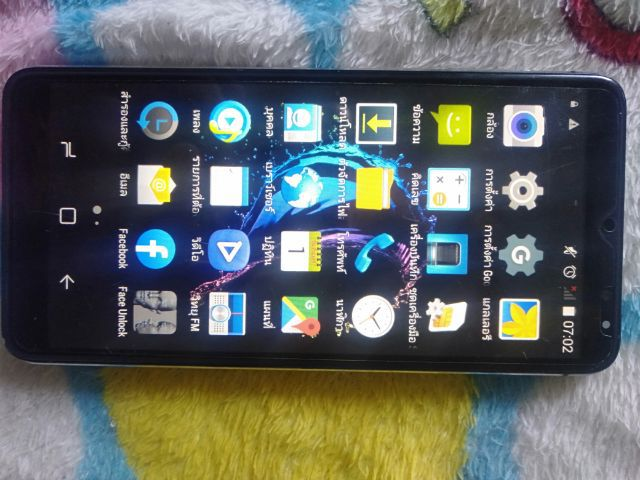Phone: (1, 64, 628, 379)
